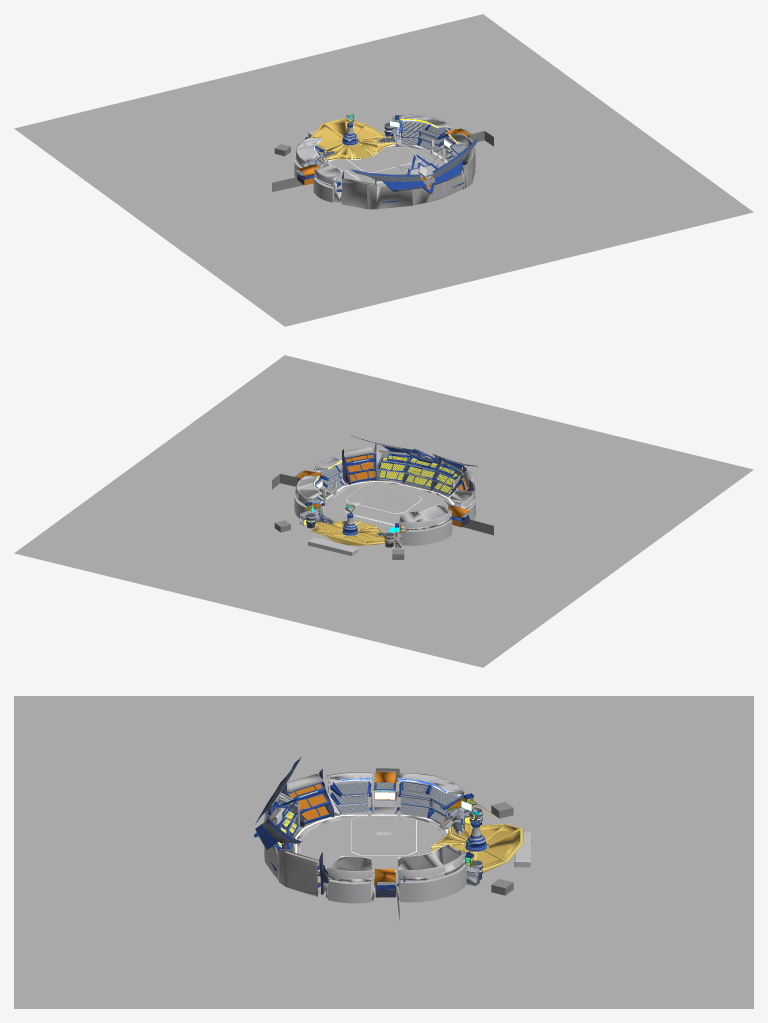
File: champions.glb
3 views of the same model, one above another, from view 1: azimuth 30°, elevation 25°; view 2: azimuth 150°, elevation 25°; view 3: azimuth 270°, elevation 25° (orthographic). The views are drawn at different scales.
Parts seen in each view (by area): view 1: pCube41, polySurface5416, polySurface4577, pCube62, polySurface5955, polySurface5657, polySurface6157; view 2: pCube41, polySurface5416, pCube62, polySurface5955, polySurface6157, polySurface2156, polySurface4577, polySurface5657; view 3: pCube41, polySurface5416, pCube62, polySurface5657, polySurface5955, polySurface4577, polySurface6157, polySurface6162.001.
Boxes of the visible parts, box(x1,y1,x2,y2) form: pCube41: box(14, 14, 753, 326); polySurface5416: box(294, 114, 475, 202); polySurface4577: box(310, 118, 395, 160); pCube62: box(298, 115, 477, 203); polySurface5955: box(297, 116, 476, 191); polySurface5657: box(302, 115, 467, 197); polySurface6157: box(272, 116, 493, 191); pCube41: box(14, 355, 753, 667); polySurface5416: box(294, 444, 475, 555); pCube62: box(298, 440, 476, 535); polySurface5955: box(297, 435, 477, 547); polySurface6157: box(272, 453, 493, 559); polySurface2156: box(349, 455, 459, 513); polySurface4577: box(311, 519, 394, 545); polySurface5657: box(296, 446, 462, 548); pCube41: box(14, 696, 753, 1008); polySurface5416: box(268, 768, 531, 903); pCube62: box(254, 758, 486, 889); polySurface5657: box(279, 781, 485, 885); polySurface5955: box(255, 757, 503, 897); polySurface4577: box(430, 822, 523, 872); polySurface6157: box(278, 768, 513, 920); polySurface6162.001: box(295, 777, 450, 889).
Size of the model in its own units: 23.52 by 2.62 by 23.52.
